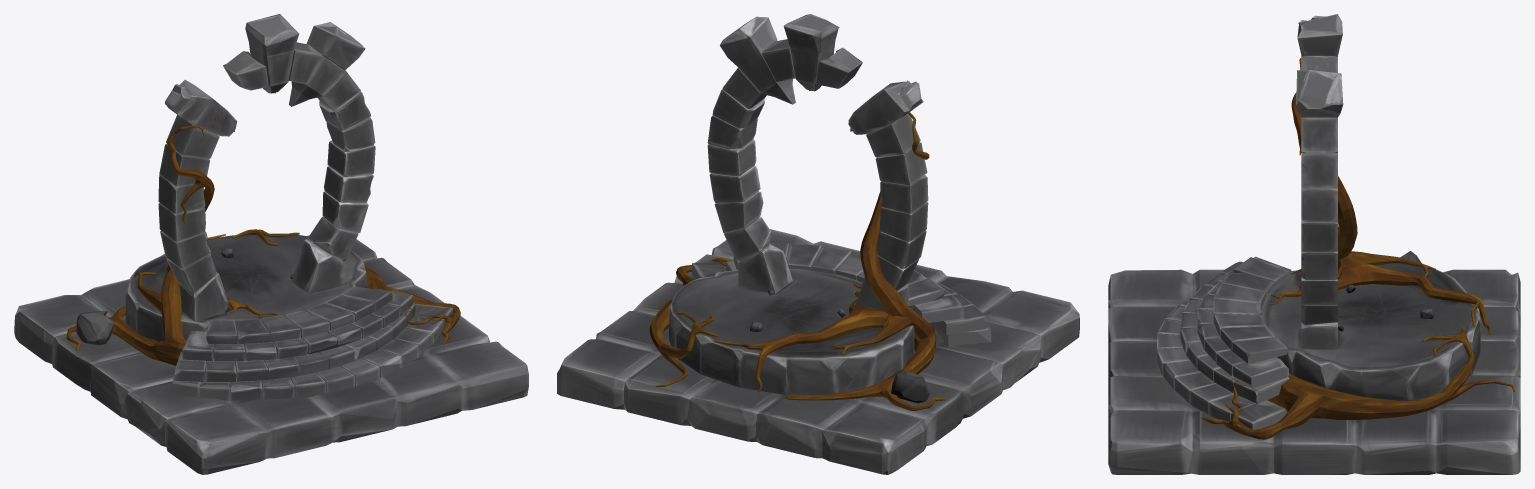
File: portal2.obj
3 renders of one model, left to right at view 1: azimuth 30°, elevation 25°; view 2: azimuth 150°, elevation 25°; view 3: azimuth 270°, elevation 25°, orthographic. The views are drawn at different scales.
Parts seen in each view (by area): view 1: plate_Cube, portal_Cube.002, stairs_Cube.006, podium_Cylinder, plant_1_lp_Plane, plant_2_lp_Plane.003, stone.003_Cube.008; view 2: plate_Cube, portal_Cube.002, podium_Cylinder, plant_1_lp_Plane, stairs_Cube.006, plant_2_lp_Plane.003, stone.003_Cube.008; view 3: plate_Cube, podium_Cylinder, stairs_Cube.006, portal_Cube.002, plant_2_lp_Plane.003, plant_1_lp_Plane.
Boxes of the visible parts, x1,y1,x2,y2 form: plate_Cube: [14, 235, 528, 474]; portal_Cube.002: [158, 14, 375, 321]; stairs_Cube.006: [170, 286, 452, 400]; podium_Cylinder: [125, 233, 367, 341]; plant_1_lp_Plane: [66, 117, 277, 365]; plant_2_lp_Plane.003: [232, 229, 460, 344]; stone.003_Cube.008: [76, 311, 114, 344]; plate_Cube: [557, 229, 1079, 474]; portal_Cube.002: [707, 14, 928, 310]; podium_Cylinder: [669, 268, 914, 395]; plant_1_lp_Plane: [714, 112, 946, 410]; stairs_Cube.006: [692, 243, 991, 347]; plant_2_lp_Plane.003: [649, 258, 733, 386]; stone.003_Cube.008: [891, 372, 929, 403]; plate_Cube: [1108, 269, 1520, 474]; podium_Cylinder: [1260, 262, 1480, 400]; stairs_Cube.006: [1156, 256, 1291, 429]; portal_Cube.002: [1296, 14, 1343, 348]; plant_2_lp_Plane.003: [1201, 326, 1515, 439]; plant_1_lp_Plane: [1260, 58, 1491, 334].
Bounding box in the file's own units: 10.24 × 10.07 × 10.24.
